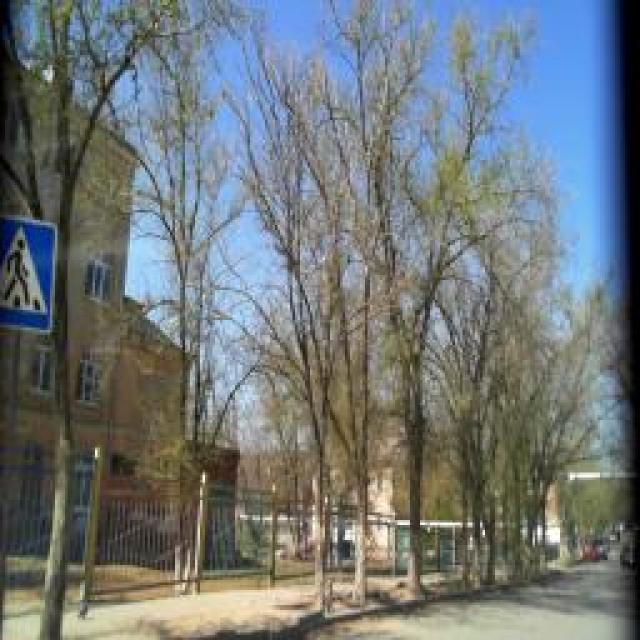sign: (1, 215, 56, 333)
